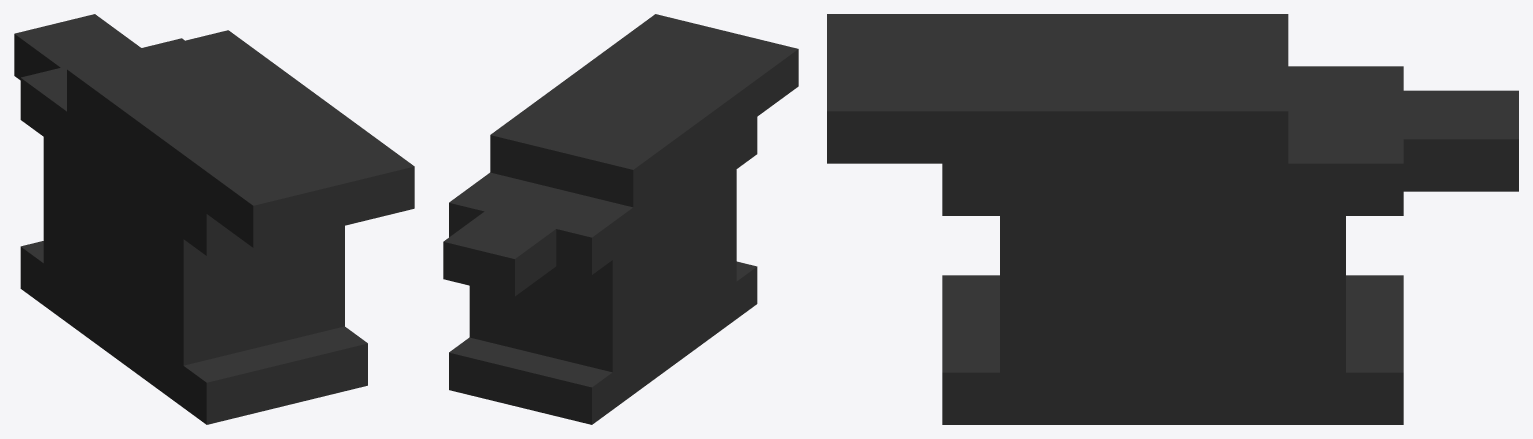
The model's file is Anvil.gltf.
3 views of the same model, side by side, from view 1: azimuth 30°, elevation 25°; view 2: azimuth 150°, elevation 25°; view 3: azimuth 270°, elevation 25° (orthographic). The views are drawn at different scales.
Visible parts, largest first — view 1: Layer.1; view 2: Layer.1; view 3: Layer.1.
Part boxes in pixels (x1=…): Layer.1: x1=14, y1=14, x2=414, y2=424; Layer.1: x1=443, y1=14, x2=798, y2=424; Layer.1: x1=827, y1=14, x2=1518, y2=424.
Bounding box in the file's own units: 4 × 6 × 12.
Materials: 1 (1 with a texture image).
